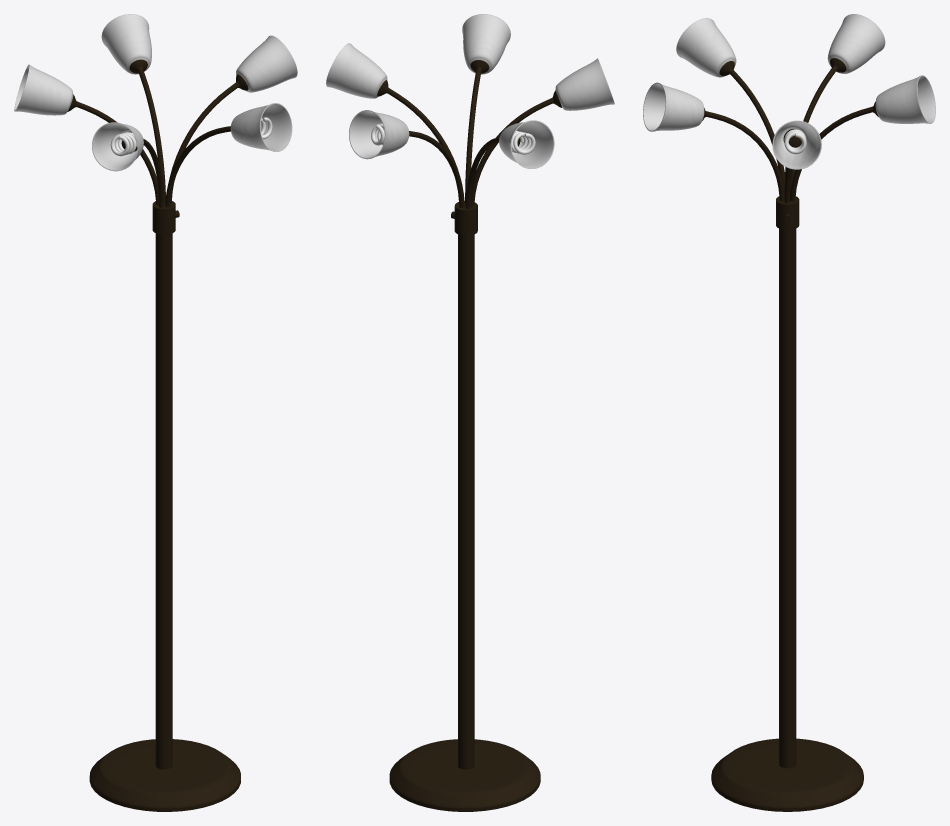
The model's file is crazyLamp2.fbx.
The picture shows the model from 3 angles, left to right: view 1: azimuth 30°, elevation 25°; view 2: azimuth 150°, elevation 25°; view 3: azimuth 270°, elevation 25°; orthographic projection.
Visible parts, largest first — view 1: mainPole, stand, lamp, lamp5, lamp3, lamp2, lamp4, neck1, switchConnector, neck4, neck, neck2; view 2: mainPole, stand, lamp, lamp5, lamp2, lamp4, lamp3, neck4, switchConnector, neck3, neck1, neck; view 3: mainPole, stand, lamp5, lamp2, lamp4, lamp3, lamp, neck4, switchConnector, neck3, neck1.
Boxes of the visible parts, x1=… form: mainPole: x1=155, y1=233, x2=172, y2=769; stand: x1=89, y1=739, x2=240, y2=811; lamp: x1=236, y1=35, x2=297, y2=92; lamp5: x1=230, y1=103, x2=292, y2=151; lamp3: x1=14, y1=64, x2=73, y2=115; lamp2: x1=101, y1=14, x2=151, y2=74; lamp4: x1=92, y1=122, x2=143, y2=171; neck1: x1=138, y1=67, x2=165, y2=203; switchConnector: x1=152, y1=201, x2=175, y2=234; neck4: x1=165, y1=126, x2=230, y2=207; neck: x1=169, y1=82, x2=238, y2=203; neck2: x1=76, y1=101, x2=158, y2=205; mainPole: x1=458, y1=234, x2=474, y2=769; stand: x1=389, y1=739, x2=540, y2=811; lamp: x1=326, y1=43, x2=387, y2=98; lamp5: x1=462, y1=14, x2=510, y2=74; lamp2: x1=349, y1=110, x2=409, y2=159; lamp4: x1=555, y1=58, x2=614, y2=110; lamp3: x1=499, y1=120, x2=554, y2=168; neck4: x1=465, y1=67, x2=481, y2=203; switchConnector: x1=454, y1=200, x2=477, y2=235; neck3: x1=471, y1=97, x2=553, y2=206; neck1: x1=409, y1=131, x2=464, y2=208; neck: x1=386, y1=87, x2=459, y2=204; mainPole: x1=779, y1=228, x2=796, y2=768; stand: x1=711, y1=738, x2=863, y2=811; lamp5: x1=643, y1=82, x2=704, y2=131; lamp2: x1=875, y1=75, x2=935, y2=123; lamp4: x1=676, y1=18, x2=736, y2=77; lamp3: x1=827, y1=14, x2=885, y2=73; lamp: x1=772, y1=120, x2=821, y2=169; neck4: x1=706, y1=111, x2=784, y2=201; switchConnector: x1=776, y1=196, x2=799, y2=229; neck3: x1=729, y1=68, x2=784, y2=191; neck1: x1=790, y1=106, x2=872, y2=201.
Size of the model in its own units: 27.86 by 76.85 by 28.49.
